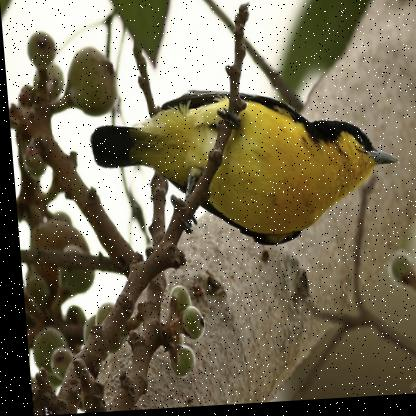Burung: (85, 84, 399, 256)
